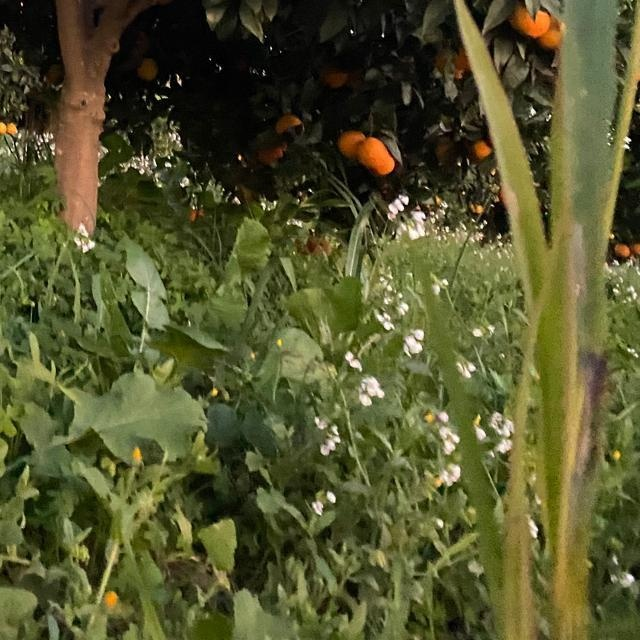orange: (525, 4, 561, 48), (511, 0, 551, 39), (362, 136, 396, 176), (433, 45, 469, 79), (318, 62, 356, 88), (254, 135, 284, 163), (44, 57, 68, 91), (337, 129, 363, 157), (433, 136, 457, 162), (275, 111, 303, 133), (136, 56, 160, 80), (469, 137, 493, 159), (185, 203, 209, 221), (611, 239, 629, 261), (376, 183, 402, 197), (472, 201, 488, 219), (425, 194, 445, 206), (0, 119, 15, 133), (633, 239, 639, 261), (156, 0, 178, 6)
